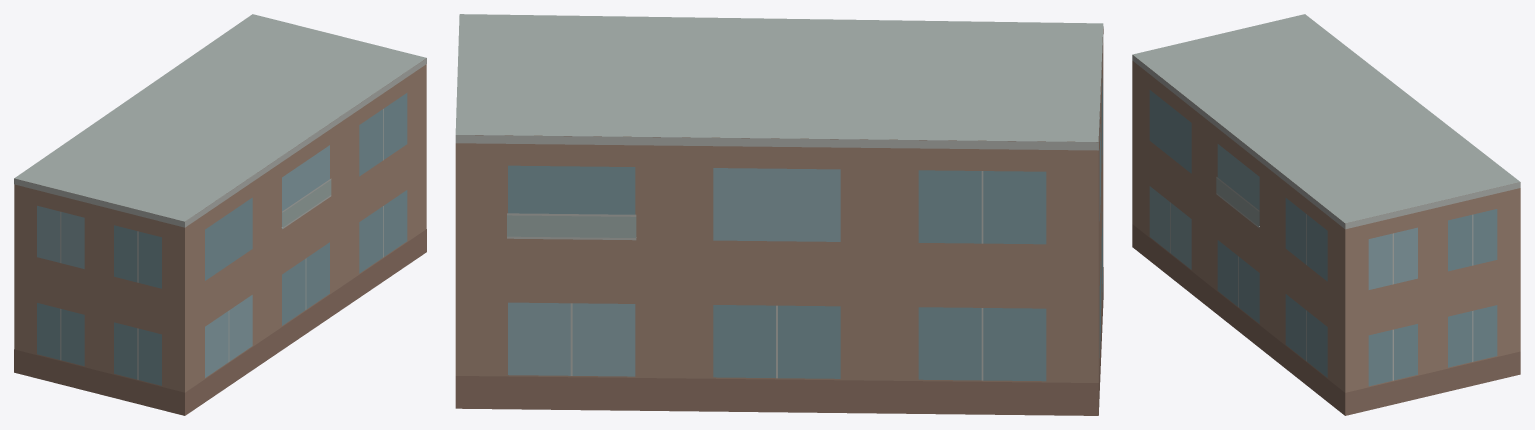
Rendered from survey-upis-32947652.glb.
The picture shows the model from 3 angles, left to right: view 1: azimuth 30°, elevation 25°; view 2: azimuth 150°, elevation 25°; view 3: azimuth 270°, elevation 25°; orthographic projection. The views are drawn at different scales.
Visible parts, largest first — view 1: survey-upis-32947652.tmp; view 2: survey-upis-32947652.tmp; view 3: survey-upis-32947652.tmp.
Part boxes in pixels (x1,y1,x2,y2): survey-upis-32947652.tmp: (14, 14, 426, 415); survey-upis-32947652.tmp: (455, 14, 1103, 415); survey-upis-32947652.tmp: (1132, 14, 1520, 415).
Bounding box in the file's own units: 18.44 × 7.9 × 14.45.
